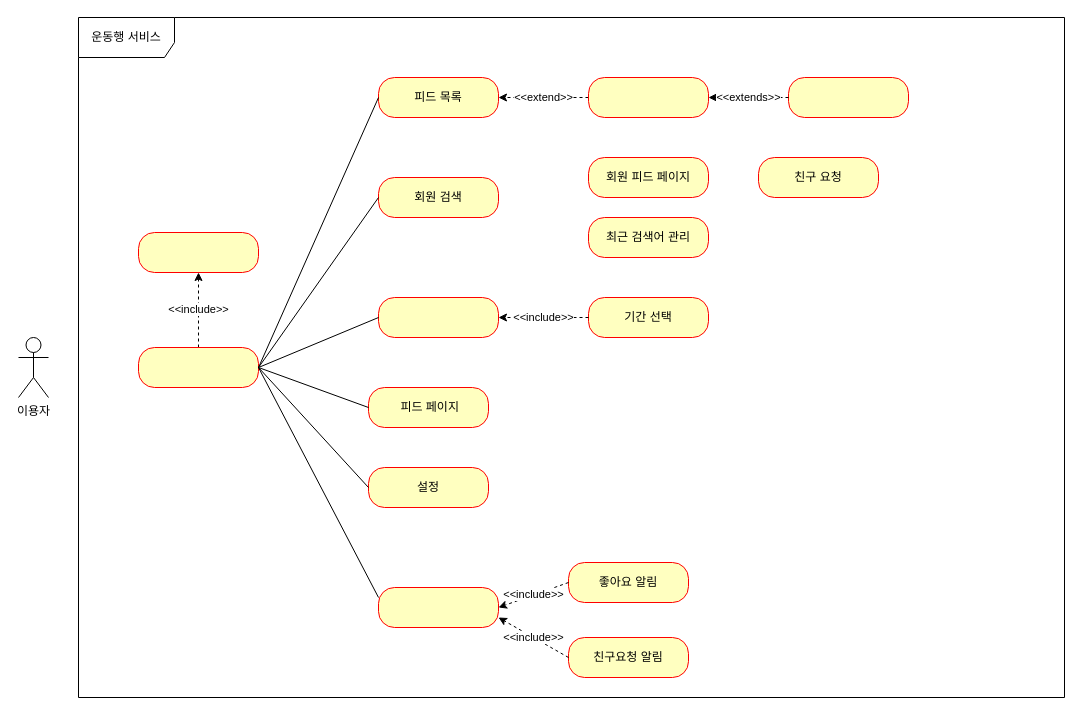
Image size: 1082x715. Some labels were removed from this diagram. Each missing label, with the centre of its shape:
소셜 로그인: the point at 198,367
알림: the point at 438,607
운동 통계: the point at 438,317
인증: the point at 198,252
좋아요 누르기/해제: the point at 848,97
피드 상세: the point at 648,97
